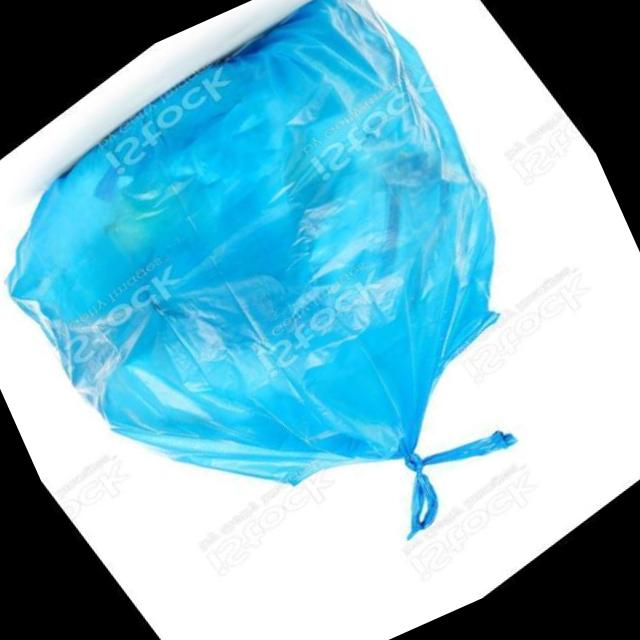KantongPlastik: (0, 0, 605, 640)
